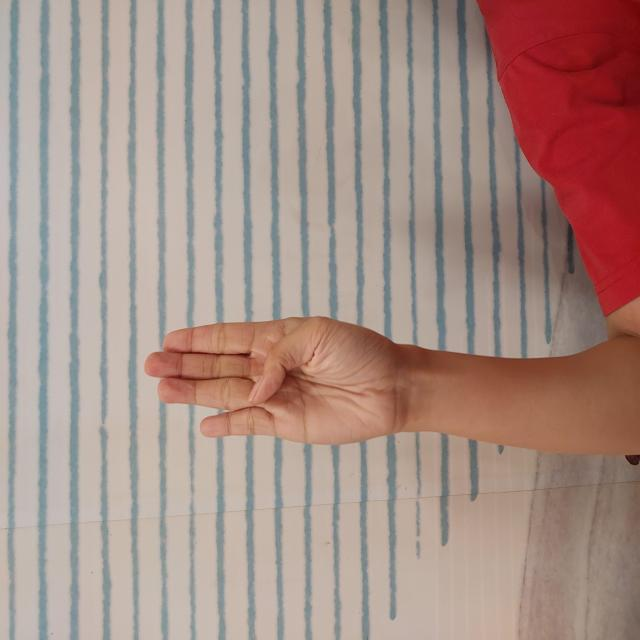B: (192, 143, 326, 402)
